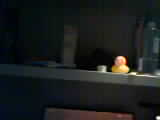duck: (99, 53, 131, 76)
